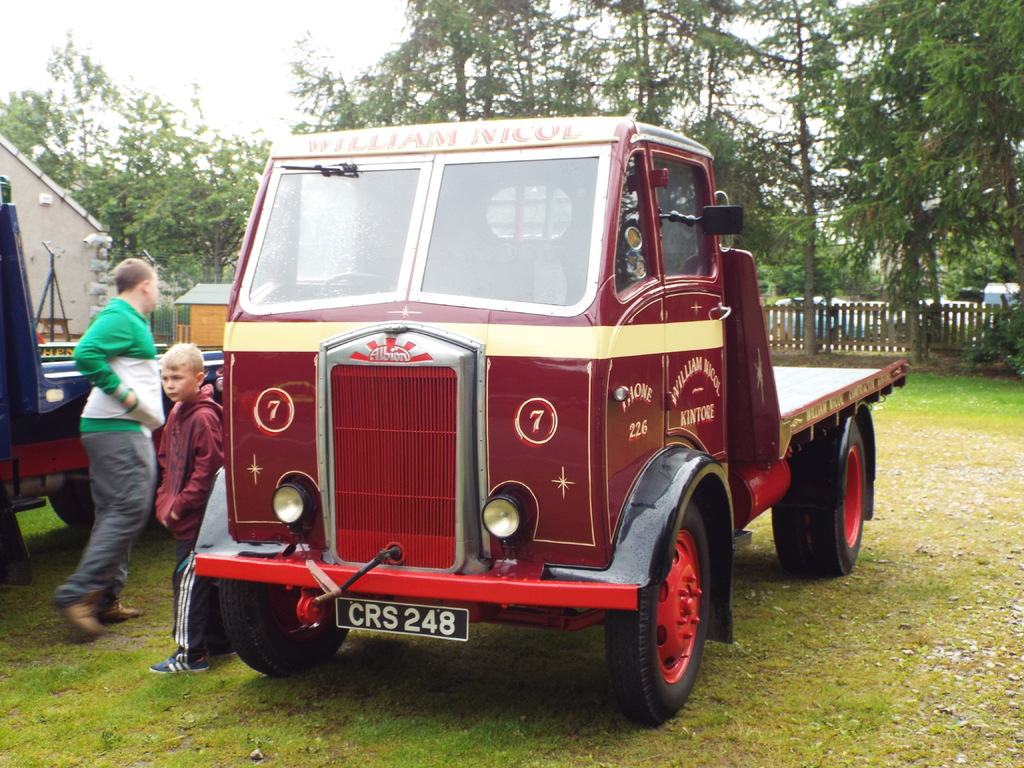Person: (149, 342, 237, 674)
